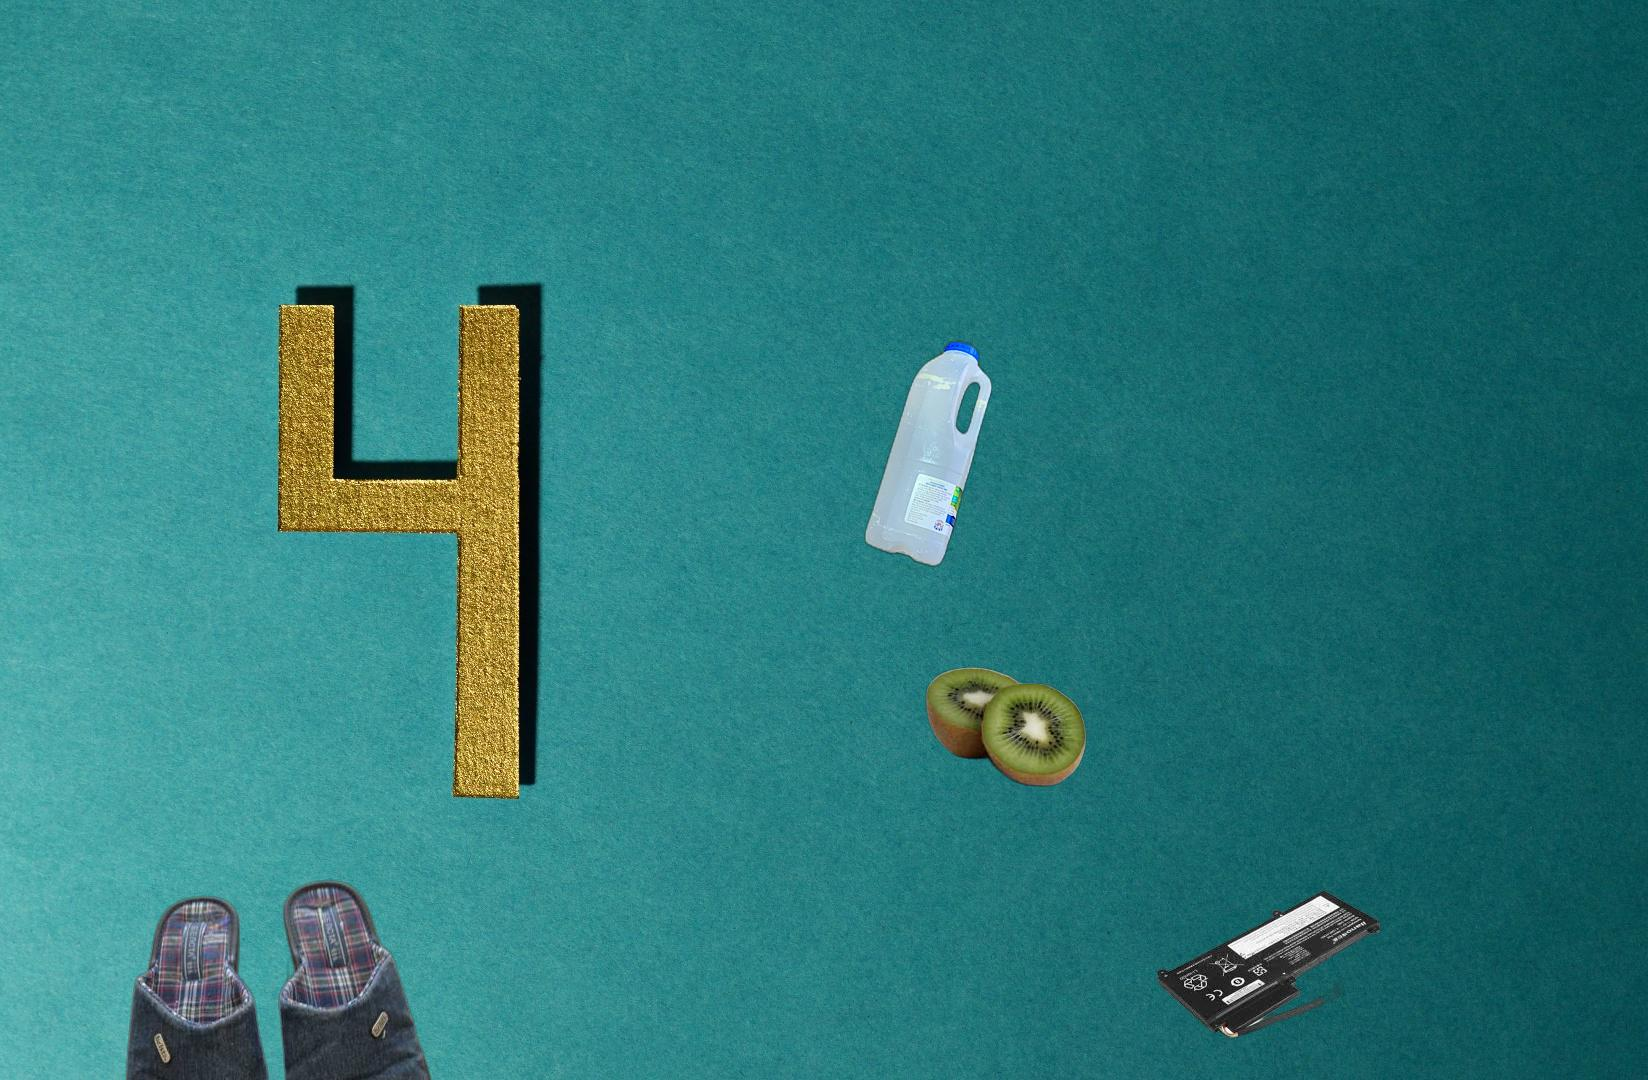battery: (1155, 887, 1383, 1041)
biological: (923, 664, 1089, 790)
plastic-bottles: (860, 335, 997, 573)
shoes: (121, 876, 439, 1080)
